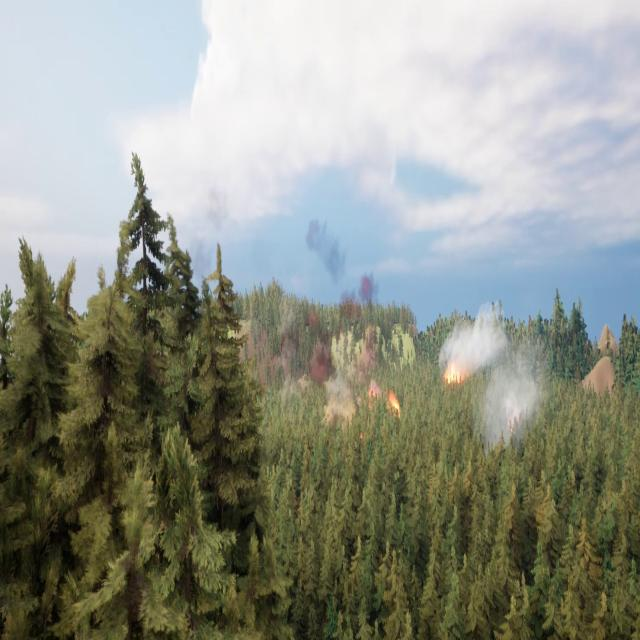fire: (370, 380, 402, 430), (445, 363, 465, 380)
smoke: (234, 210, 387, 382), (473, 362, 542, 459), (440, 303, 508, 390)
